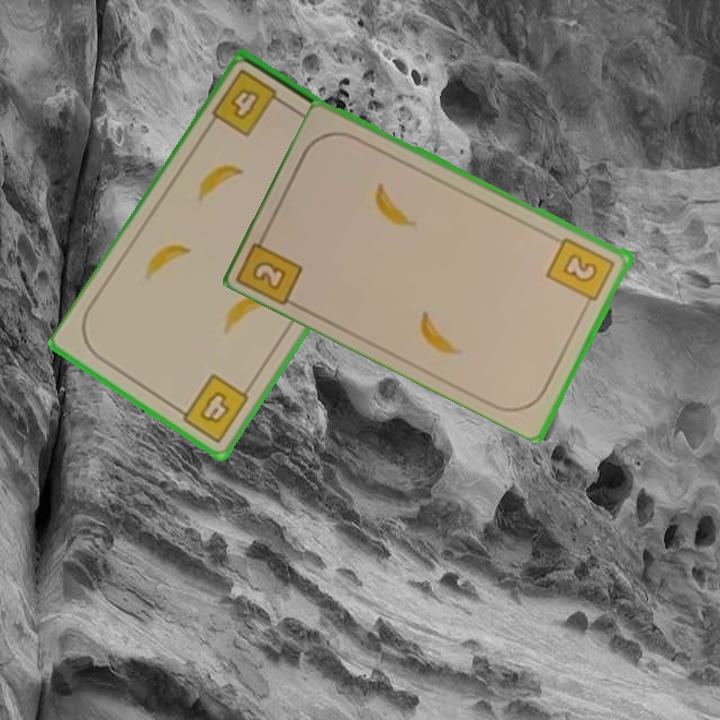2b: (543, 233, 618, 311), (237, 224, 307, 307)
4b: (209, 65, 291, 141), (172, 370, 253, 446)
